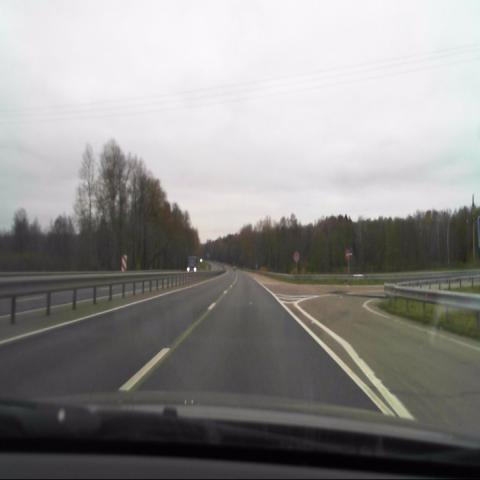3_27: (293, 250, 301, 264)
